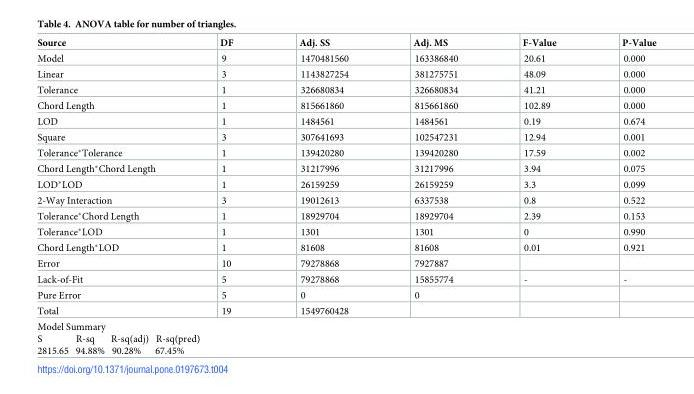table: (36, 37, 655, 355)
table column: (36, 37, 187, 355), (265, 37, 380, 355), (380, 37, 489, 355), (489, 37, 588, 355), (187, 37, 265, 355), (588, 37, 655, 355)
table column header: (36, 37, 655, 50)
table projected row header: (36, 318, 655, 355)
table row: (36, 318, 655, 355), (36, 50, 655, 66), (36, 81, 655, 97), (36, 97, 655, 113), (36, 113, 655, 129), (36, 144, 655, 160), (36, 160, 655, 176), (36, 176, 655, 192), (36, 207, 655, 223), (36, 223, 655, 239), (36, 239, 655, 255), (36, 255, 655, 271), (36, 286, 655, 302), (36, 302, 655, 318), (36, 66, 655, 81), (36, 129, 655, 144), (36, 192, 655, 207), (36, 271, 655, 286), (36, 37, 655, 50)
